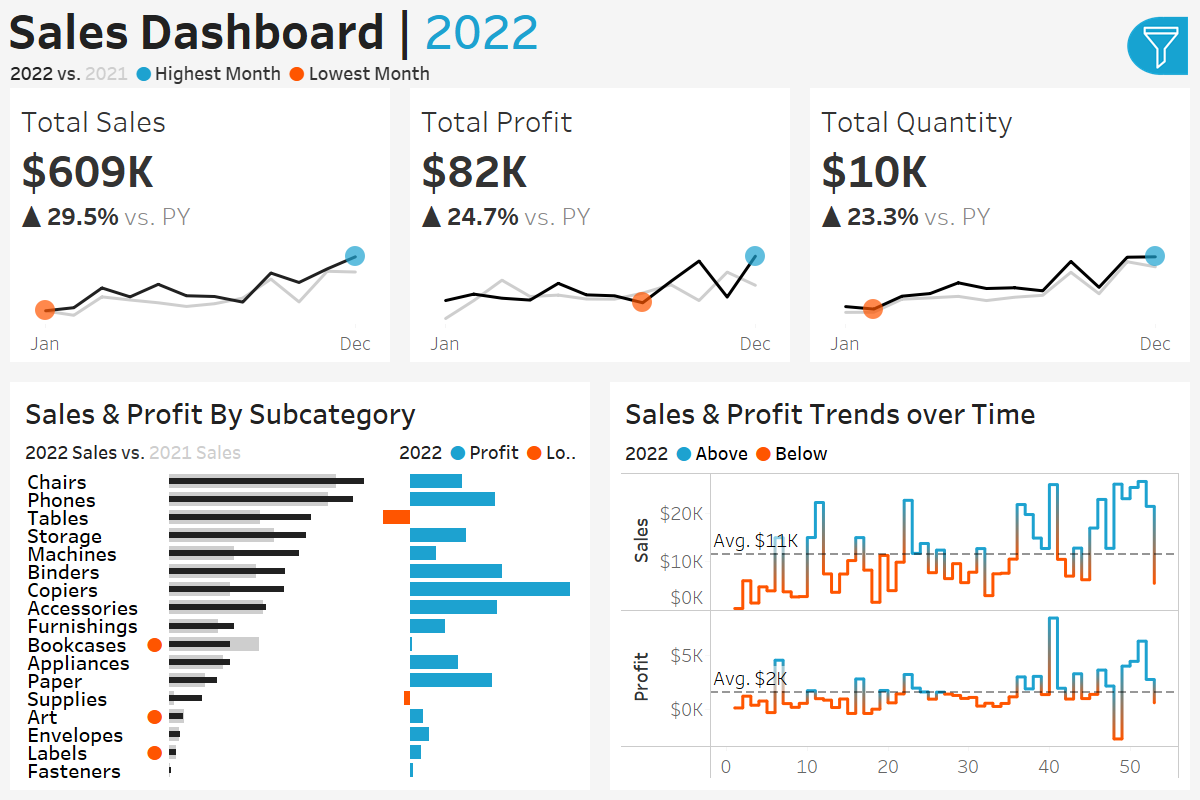

This screenshot's page, from the dashboard's own definition file:
{"tool":"tableau","page":{"name":"Sales Dashboard","canvas":[1200,800],"ordinal":0},"visuals":[{"type":"text","box":[0,0,1200,59]},{"type":"blank","box":[952,10,237,86]},{"type":"worksheet","title":"LEGENDS","mark":"Automatic","box":[0,59,1200,29]},{"type":"worksheet","title":"SALES","mark":"Automatic","rows":["Calculation_721701895347843083"],"cols":["Order Date"],"box":[0,88,400,284]},{"type":"worksheet","title":"PROFIT","mark":"Automatic","rows":["Min/Max Sales (copy)_237846410425847814"],"cols":["Order Date"],"box":[400,88,400,284]},{"type":"worksheet","title":"QUANTITY","mark":"Automatic","rows":["Min/Max Sales (copy) (copy)_237846410425856007"],"cols":["Order Date"],"box":[800,88,400,284]},{"type":"text","box":[952,96,237,47]},{"type":"parameter","param":"[Parameters].[Parameter 1]","box":[952,143,237,60]},{"type":"text","box":[952,203,237,39]},{"type":"filter","title":"SALES","param":"[federated.1kpxa041aiai2y1cl4pui1t4eju9].[none:Category:nk]","box":[952,242,237,70]},{"type":"filter","title":"SALES","param":"[federated.1kpxa041aiai2y1cl4pui1t4eju9].[none:Sub-Category:nk]","box":[952,312,237,70]},{"type":"blank","box":[952,382,237,60]},{"type":"text","box":[17,389,566,47]},{"type":"text","box":[617,389,566,47]},{"type":"filter","title":"SALES","param":"[federated.1kpxa041aiai2y1cl4pui1t4eju9].[none:Region:nk]","box":[952,426,237,57]},{"type":"worksheet","title":"Legend Subcategory","mark":"Automatic","box":[17,436,374,32]},{"type":"text","box":[391,436,192,32]},{"type":"text","box":[617,436,566,33]},{"type":"text","box":[952,442,237,39]},{"type":"worksheet","title":"Subcategory Comparison","mark":"Bar","rows":["Sub-Category","Calculation_2435040078806671369"],"cols":["CY Sales (copy)_721701895335804930","Calculation_721701895334993921","CY Sales (copy)_237846410424180736"],"box":[17,468,566,315]},{"type":"worksheet","title":"Weekly Trends","mark":"Automatic","rows":["Calculation_721701895334993921","CY Sales (copy)_237846410424180736"],"cols":["Order Date"],"box":[617,469,566,314]},{"type":"filter","title":"SALES","param":"[federated.1kpxa041aiai2y1cl4pui1t4eju9].[none:State:nk]","box":[952,481,237,70]},{"type":"filter","title":"SALES","param":"[federated.1kpxa041aiai2y1cl4pui1t4eju9].[none:City:nk]","box":[952,551,237,70]}]}

Visuals, with their boxes in screenshot pixels (x1, y1, x2, y2), scaled from the page's 1200x800 canvas onto the 1200x800 screenshot:
text: x1=0, y1=0, x2=1199, y2=59
blank: x1=952, y1=10, x2=1189, y2=96
"LEGENDS" worksheet: x1=0, y1=59, x2=1199, y2=88
"SALES" worksheet: x1=0, y1=88, x2=400, y2=372
"PROFIT" worksheet: x1=400, y1=88, x2=800, y2=372
"QUANTITY" worksheet: x1=800, y1=88, x2=1199, y2=372
text: x1=952, y1=96, x2=1189, y2=143
parameter: x1=952, y1=143, x2=1189, y2=203
text: x1=952, y1=203, x2=1189, y2=242
"SALES" filter: x1=952, y1=242, x2=1189, y2=312
"SALES" filter: x1=952, y1=312, x2=1189, y2=382
blank: x1=952, y1=382, x2=1189, y2=442
text: x1=17, y1=389, x2=583, y2=436
text: x1=617, y1=389, x2=1183, y2=436
"SALES" filter: x1=952, y1=426, x2=1189, y2=483
"Legend Subcategory" worksheet: x1=17, y1=436, x2=391, y2=468
text: x1=391, y1=436, x2=583, y2=468
text: x1=617, y1=436, x2=1183, y2=469
text: x1=952, y1=442, x2=1189, y2=481
"Subcategory Comparison" worksheet (Bar marks): x1=17, y1=468, x2=583, y2=783
"Weekly Trends" worksheet: x1=617, y1=469, x2=1183, y2=783
"SALES" filter: x1=952, y1=481, x2=1189, y2=551
"SALES" filter: x1=952, y1=551, x2=1189, y2=621
